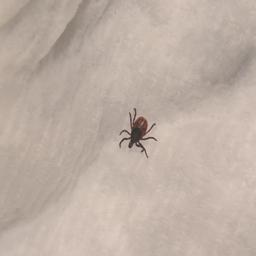Ixodes scapularis: (120, 110, 157, 158)
